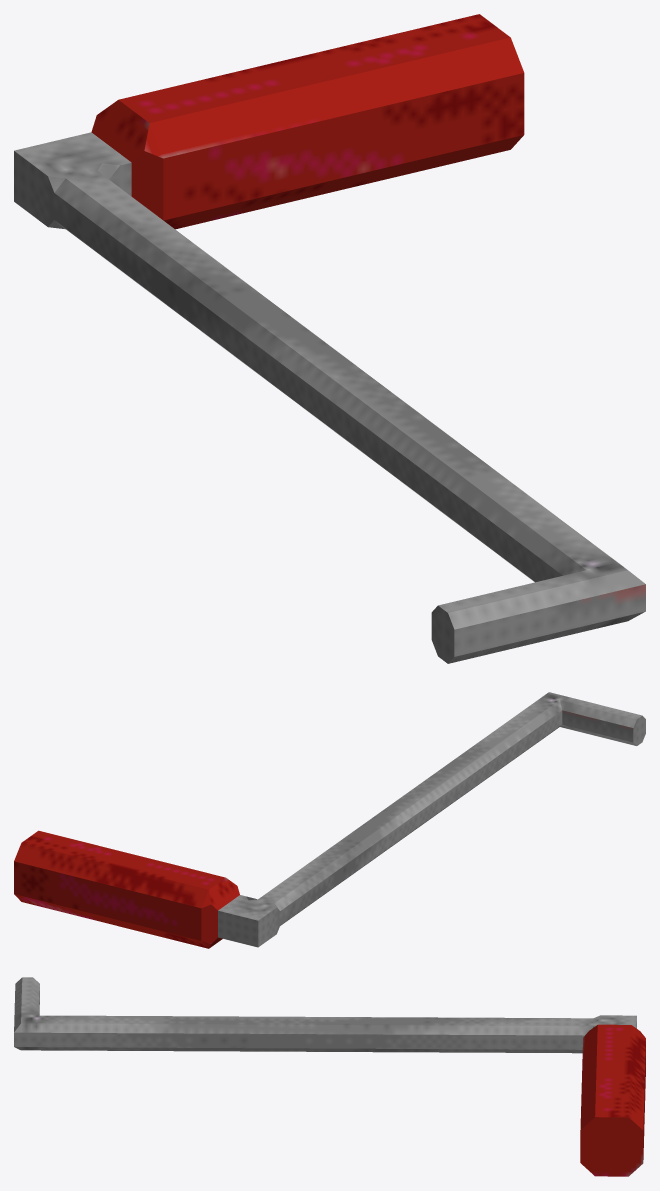
File: jackinthebox_crank.fbx
3 renders of one model, top to bottom at view 1: azimuth 30°, elevation 25°; view 2: azimuth 150°, elevation 25°; view 3: azimuth 270°, elevation 25°, orthographic. The views are drawn at different scales.
Parts seen in each view (by area): view 1: VEV; view 2: VEV; view 3: VEV.
Part boxes in pixels (<box>): VEV: <box>14,14,645,663</box>; VEV: <box>14,692,645,948</box>; VEV: <box>14,977,645,1176</box>.
Size of the model in its own units: 119 by 21.01 by 203.
